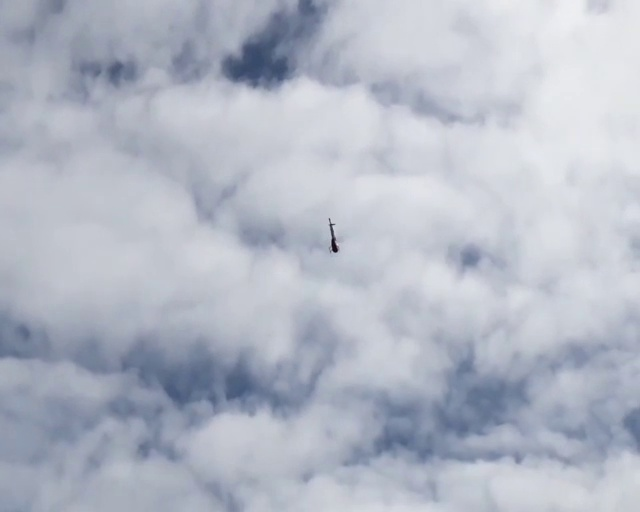HELICOPTER: (326, 217, 345, 254)
